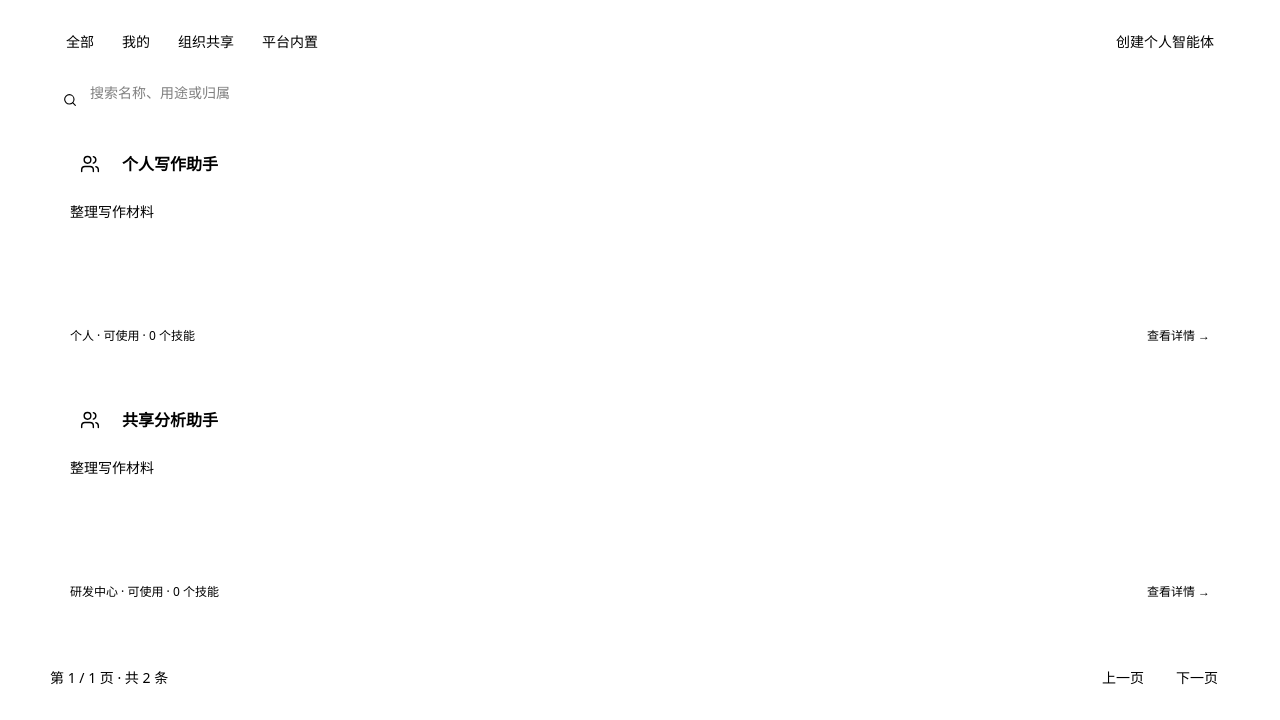
it: filters the catalog by ownership and text
This screenshot has width=1280, height=720.
Expected: the heading "共享分析助手" is shown, [122,409,218,431]
Click the button "我的" at (136, 42), box [110,24,162,60]
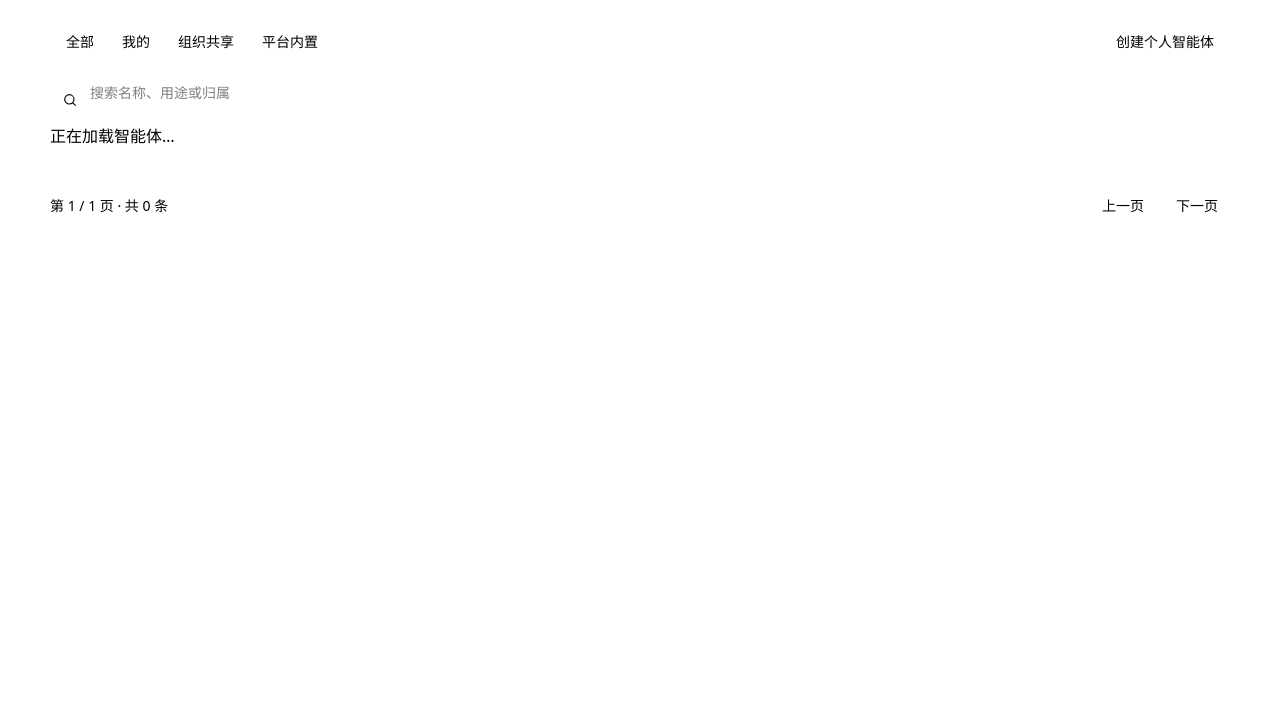
Expected: the button "共享分析助手" is gone
Type "不存在" into the field named "搜索智能体" at (640, 93), box [50,83,1230,103]
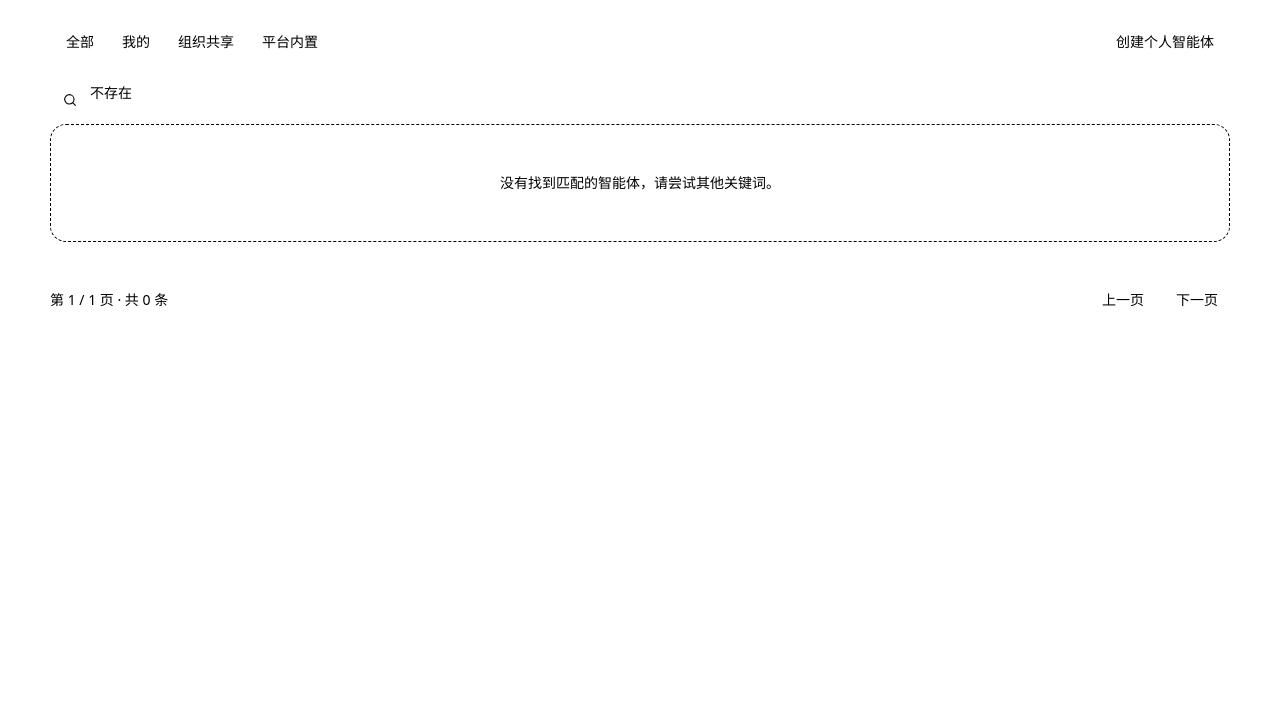
Expected: the text "没有找到匹配的智能体，请尝试其他关键词。" is shown, [50,124,1230,242]
